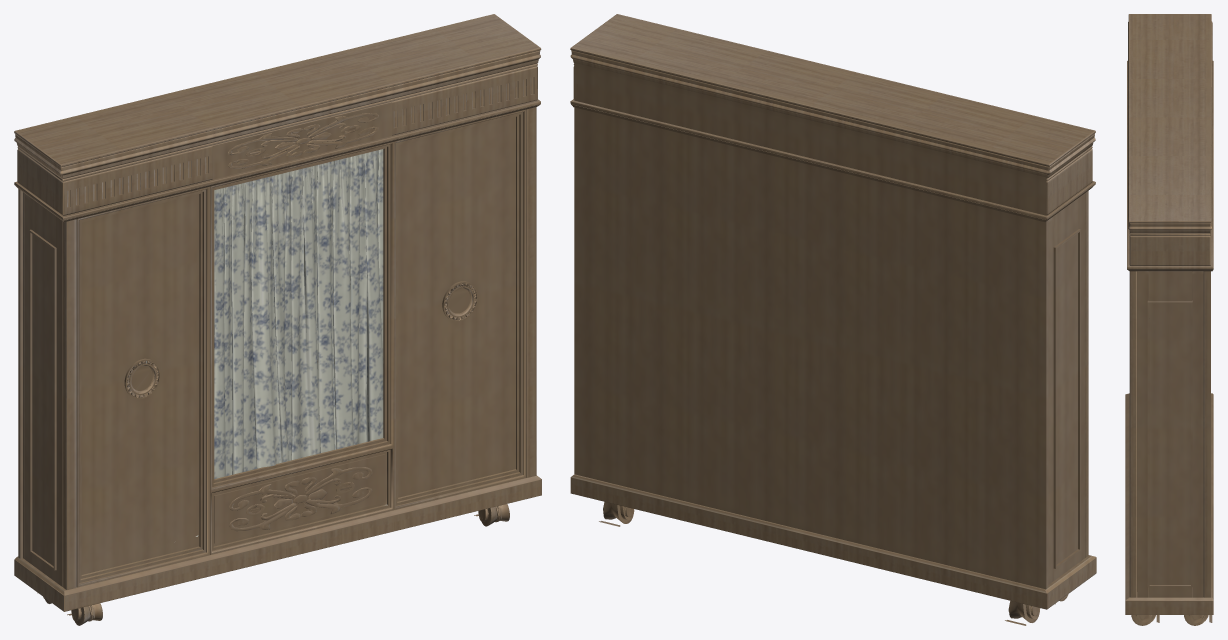
File: raw_model.obj
3 renders of one model, left to right at view 1: azimuth 30°, elevation 25°; view 2: azimuth 150°, elevation 25°; view 3: azimuth 270°, elevation 25°, orthographic. The views are drawn at different scales.
Visible parts, largest first — view 1: solid_002, solid_001; view 2: solid_002; view 3: solid_002.
Boxes of the visible parts, x1,y1,x2,y2 form: solid_002: (14,14,541,625); solid_001: (196,149,383,536); solid_002: (570,14,1096,625); solid_002: (1125,14,1213,625).
Size of the model in its own units: 2.7 by 2.53 by 0.4854.
1 material, 1 textured.
